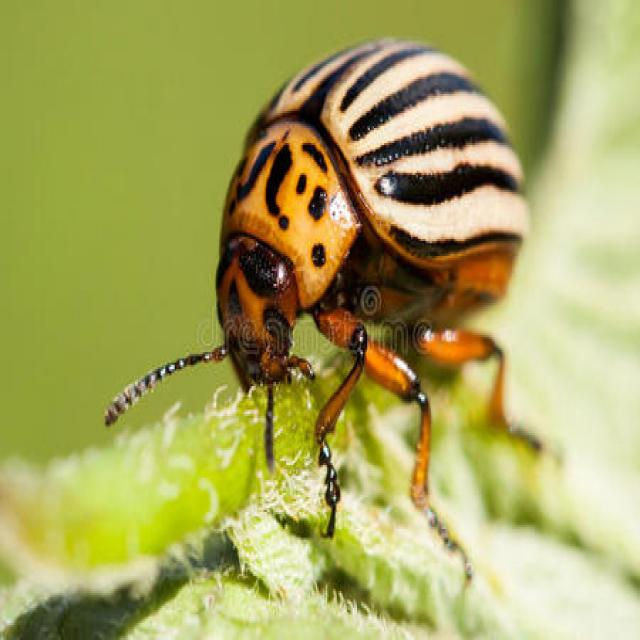ShuCaiHuaBanChong-Grown-: (196, 34, 544, 472)
